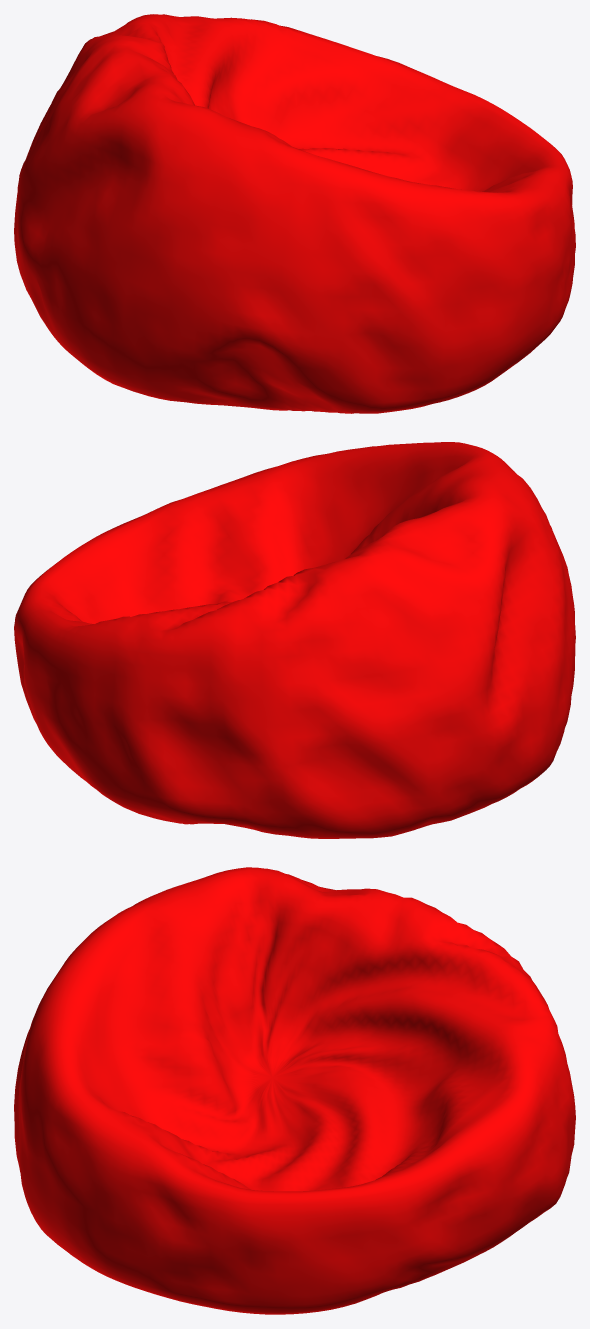
File: beanbags2.fbx
3 renders of one model, top to bottom at view 1: azimuth 30°, elevation 25°; view 2: azimuth 150°, elevation 25°; view 3: azimuth 270°, elevation 25°, orthographic. The views are drawn at different scales.
Visible parts, largest first — view 1: bean_bag; view 2: bean_bag; view 3: bean_bag.
Part boxes in pixels (left/top/right/bottom): bean_bag: left=14, top=14, right=575, bottom=413; bean_bag: left=14, top=442, right=575, bottom=838; bean_bag: left=14, top=867, right=575, bottom=1314.
Bounding box in the file's own units: 199 × 112 × 204.
